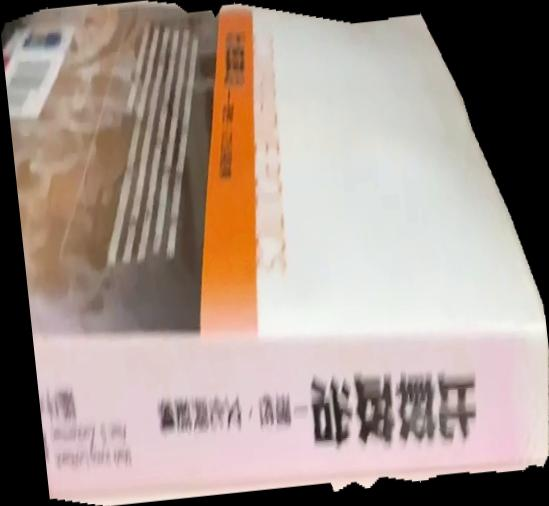flat: (1, 1, 549, 506)
